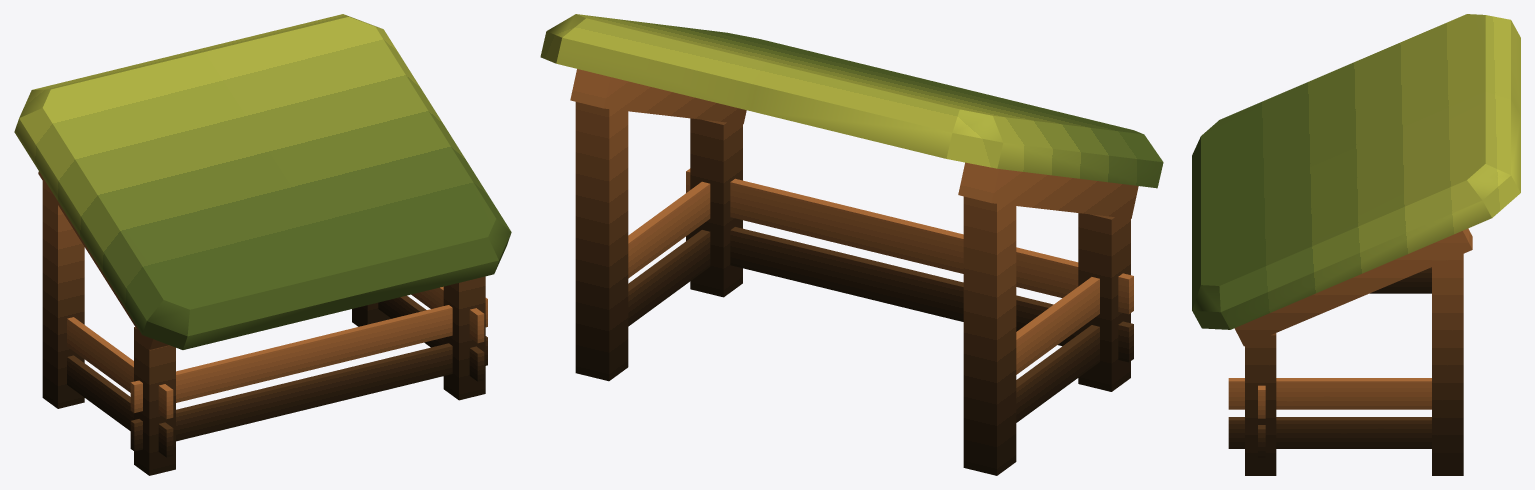
File: farm_house_lvl1.fbx
3 views of the same model, side by side, from view 1: azimuth 30°, elevation 25°; view 2: azimuth 150°, elevation 25°; view 3: azimuth 270°, elevation 25° (orthographic). The views are drawn at different scales.
Visible parts, largest first — view 1: farm_house_lvl1; view 2: farm_house_lvl1; view 3: farm_house_lvl1.
Boxes of the visible parts, box(x1,y1,x2,y2) form: farm_house_lvl1: box(14, 14, 511, 475); farm_house_lvl1: box(540, 14, 1163, 475); farm_house_lvl1: box(1192, 14, 1520, 475).
Bounding box in the file's own units: 684 × 530 × 522.
